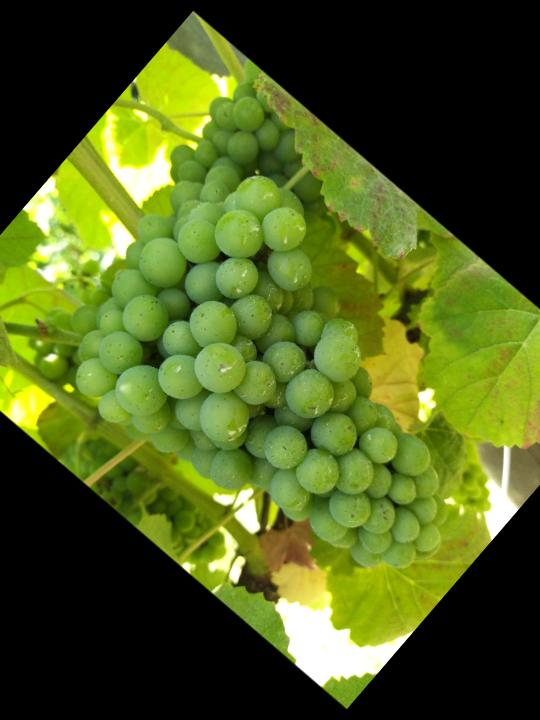grape: (38, 138, 540, 640)
